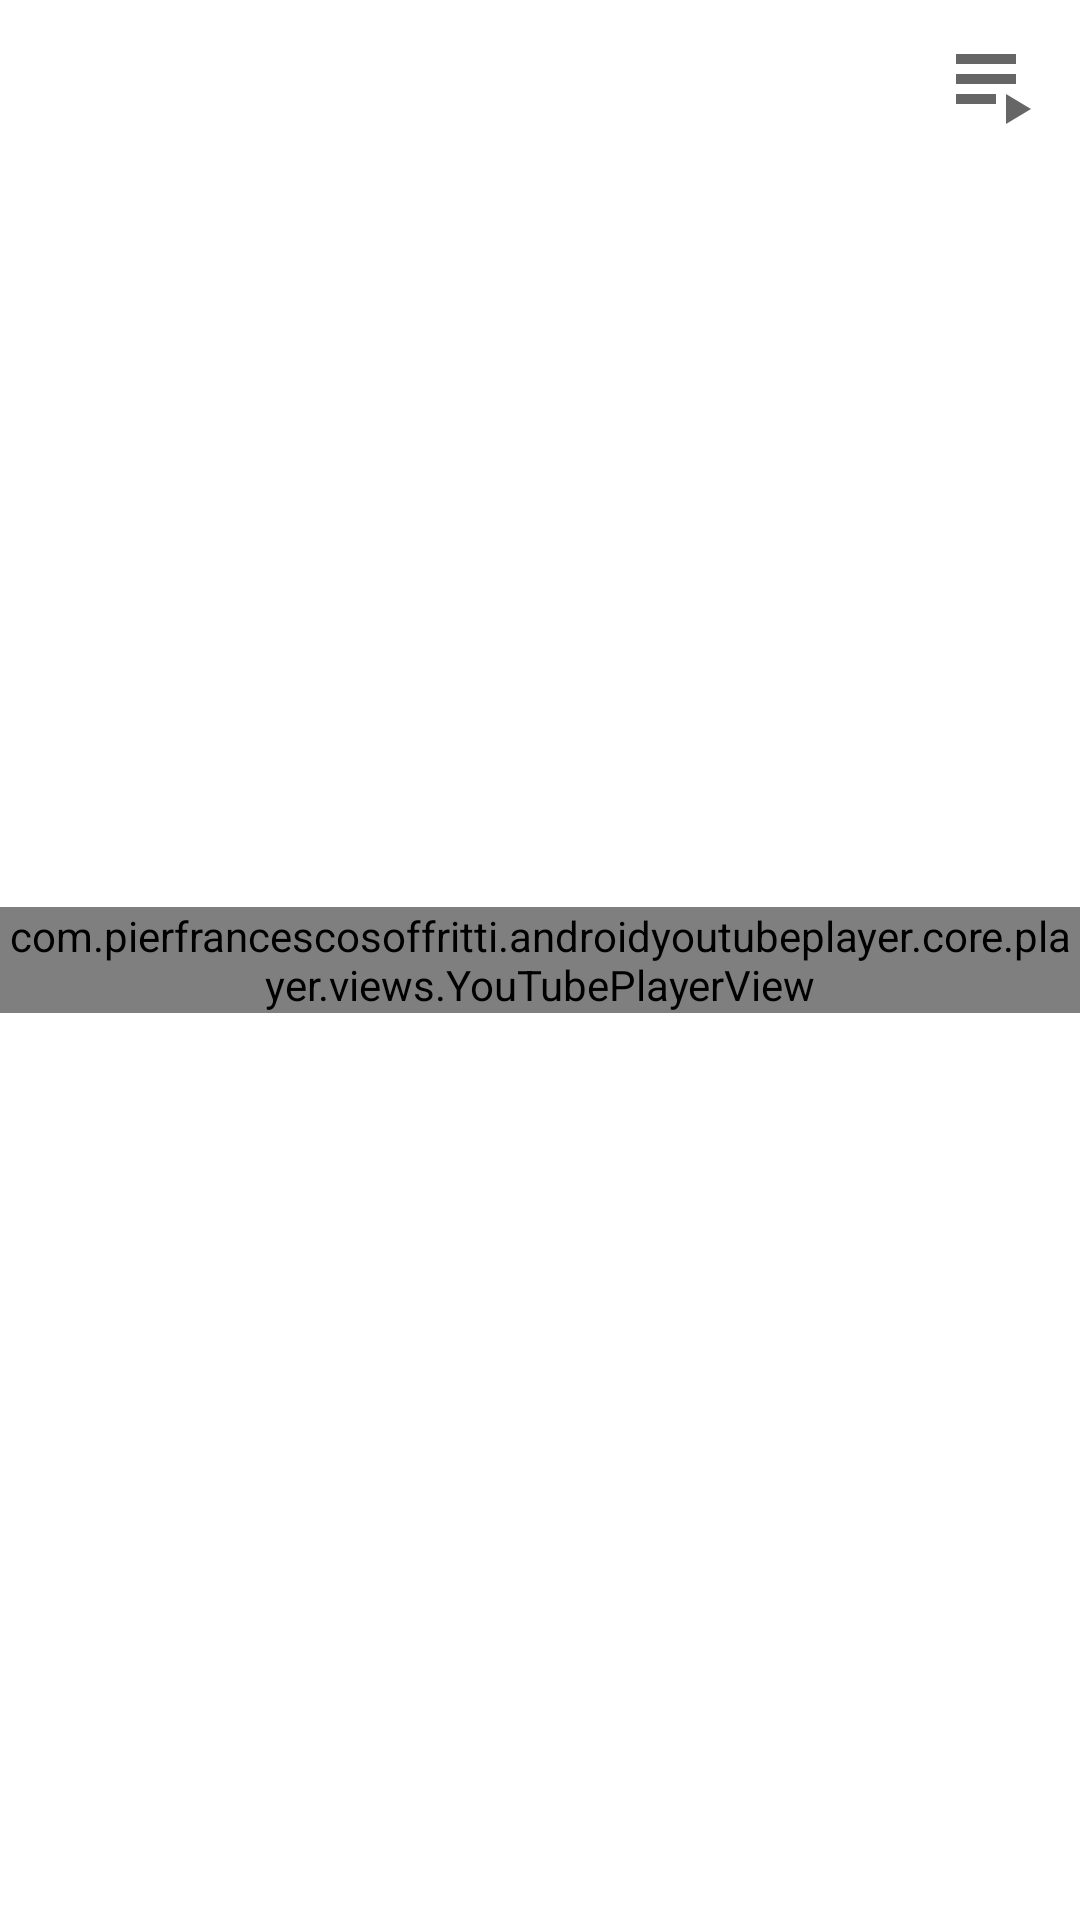

Where to tap for icons on this 1080px x 1920px app screen, as point (x, y):
playlist: point (993, 89)
